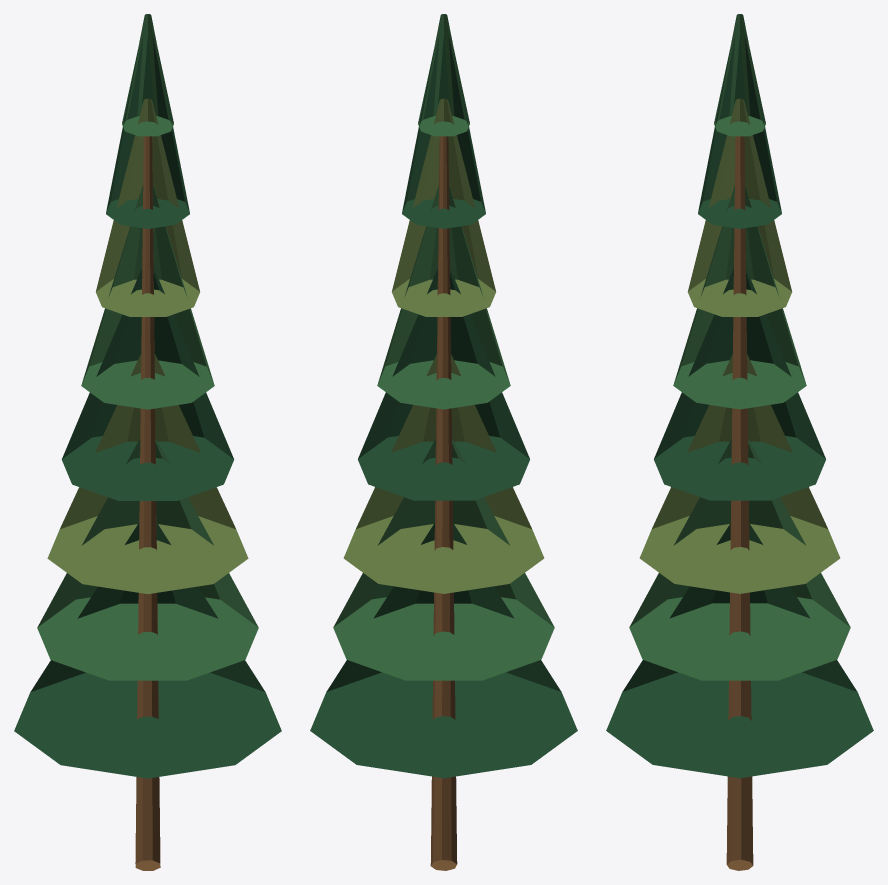
Rendered from vegetation-pine-03-narrow.glb.
The picture shows the model from 3 angles, left to right: view 1: azimuth 30°, elevation 25°; view 2: azimuth 150°, elevation 25°; view 3: azimuth 270°, elevation 25°; orthographic projection.
Visible parts, largest first — view 1: vegetation-pine-03-narrow; view 2: vegetation-pine-03-narrow; view 3: vegetation-pine-03-narrow.
Part boxes in pixels (left/top/right/bottom): vegetation-pine-03-narrow: left=14, top=14, right=281, bottom=870; vegetation-pine-03-narrow: left=310, top=14, right=577, bottom=870; vegetation-pine-03-narrow: left=606, top=14, right=873, bottom=870.
Bounding box in the file's own units: 1.49 × 5.3 × 1.51.
